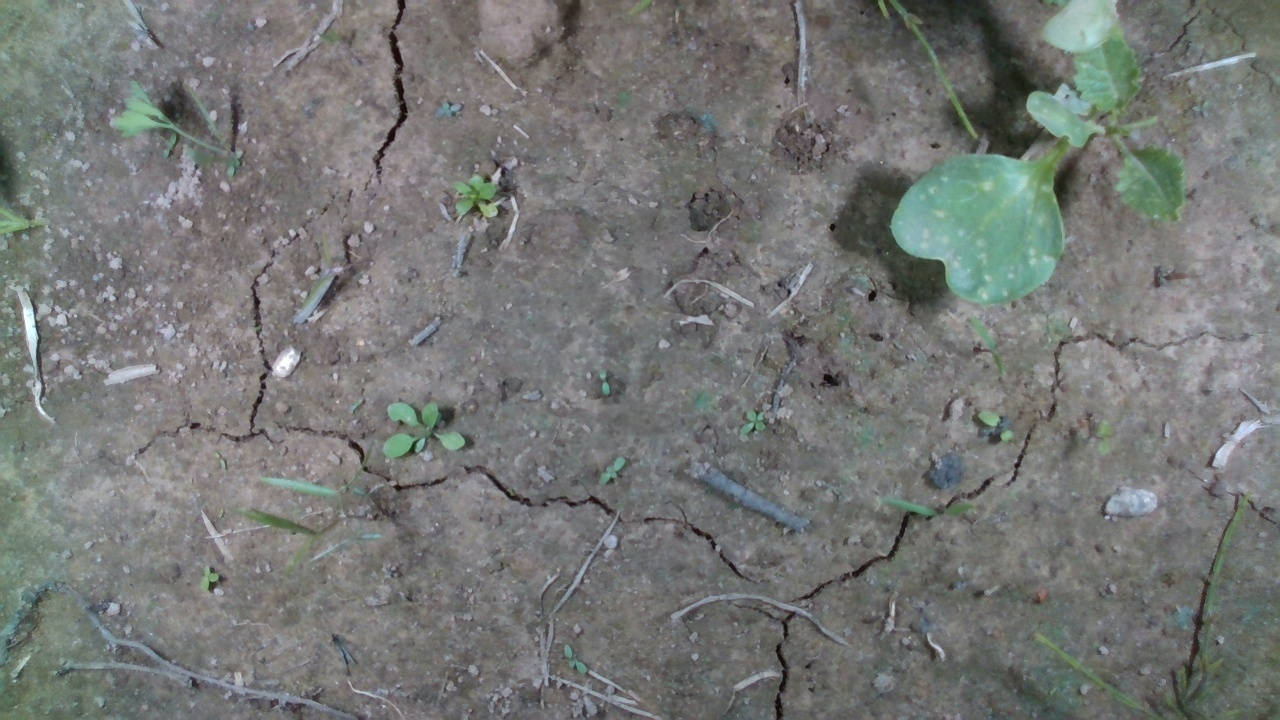weed: (975, 408, 1015, 443), (598, 455, 625, 486), (738, 407, 767, 435), (198, 561, 220, 593), (433, 98, 462, 119), (598, 370, 610, 397)
